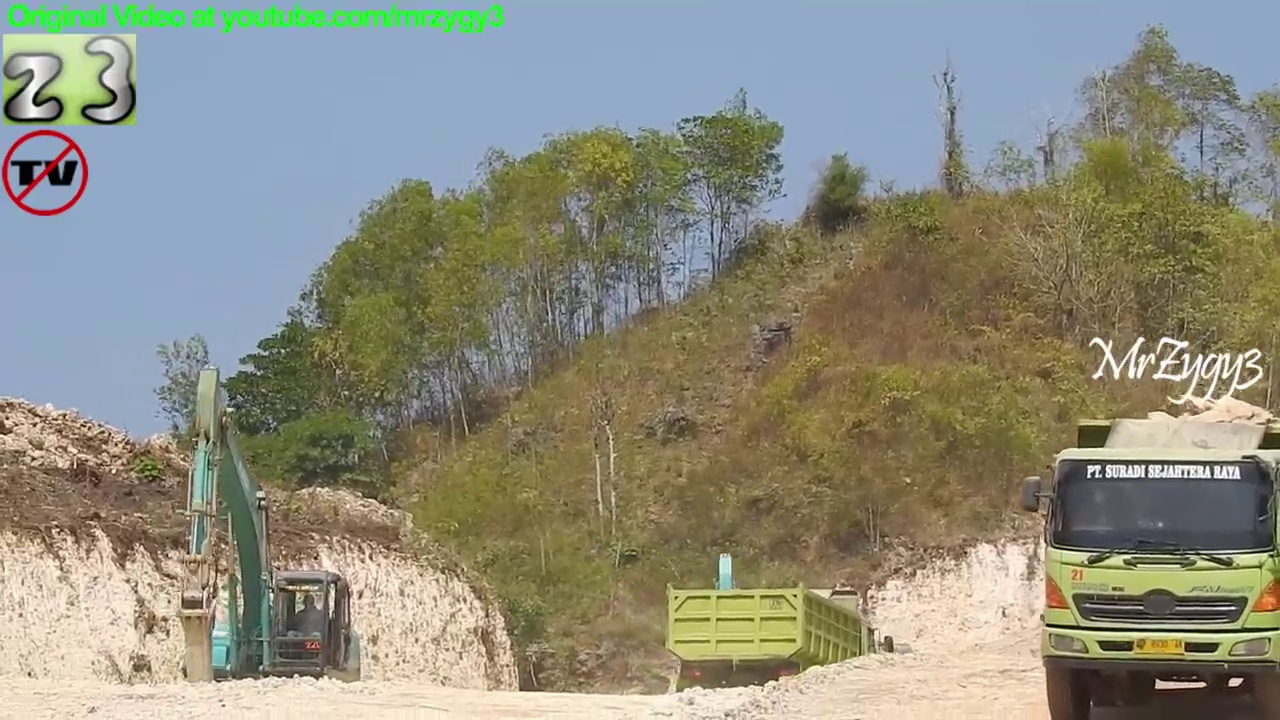excavator: (162, 355, 367, 709), (675, 545, 786, 707)
truck: (1015, 407, 1280, 720), (658, 579, 898, 714)
